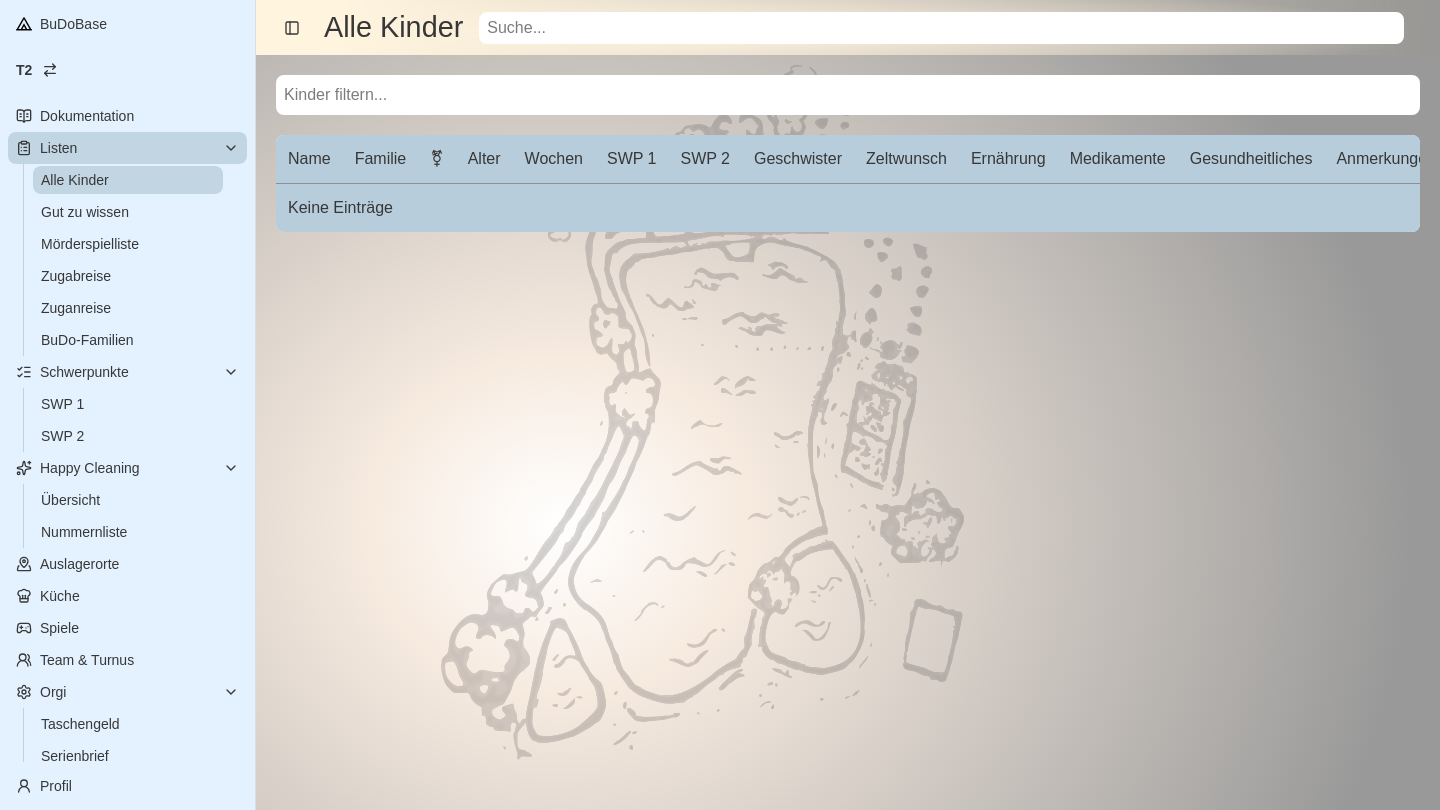
Test: application loading › keeps the current page and shows the shared error toast when a Turnus switch fails
This screenshot has width=1440, height=810.
Click the button named "Turnus wechseln".
click(50, 70)  # box [36,56,64,84]
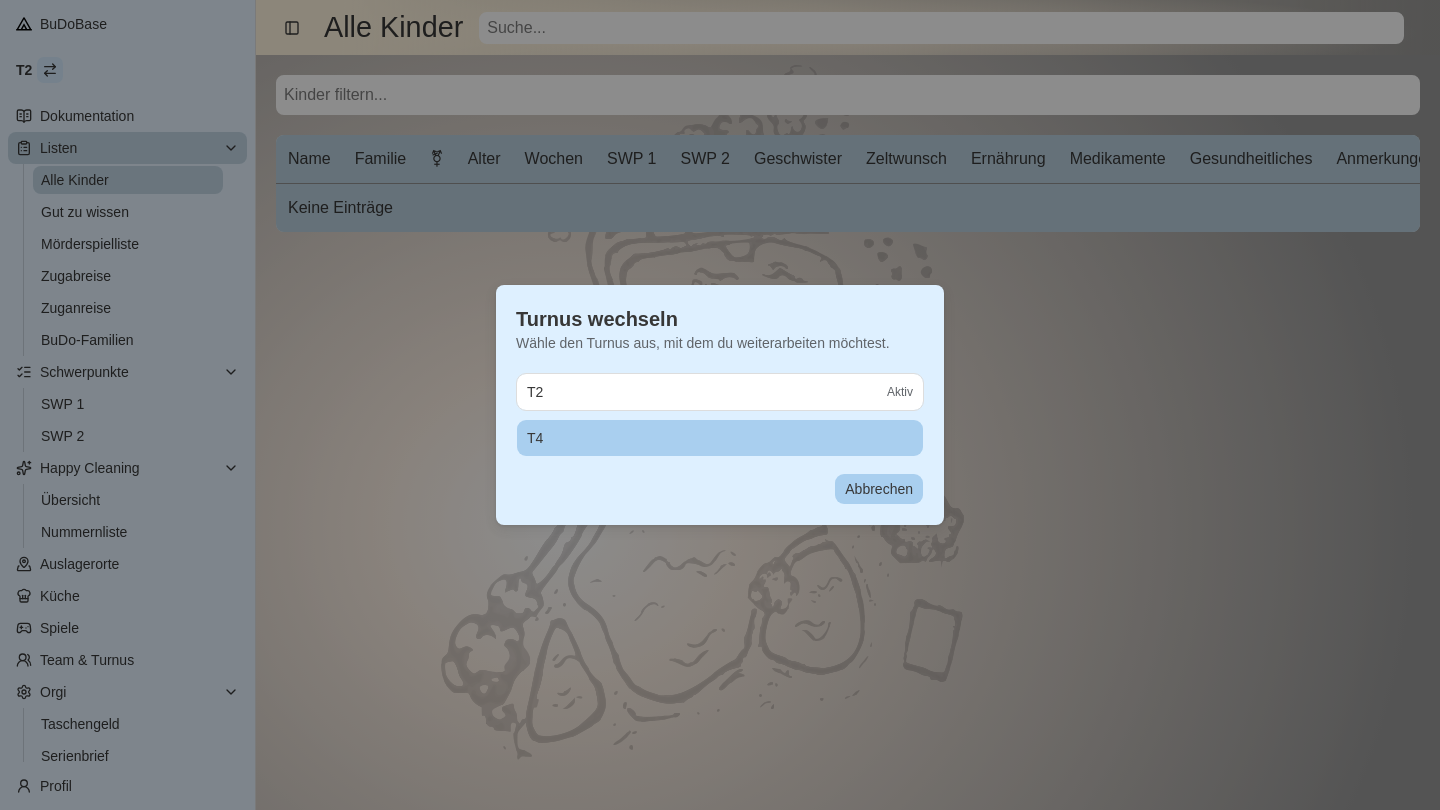
Click the button "T4".
click(535, 438)  # box [516,419,924,457]
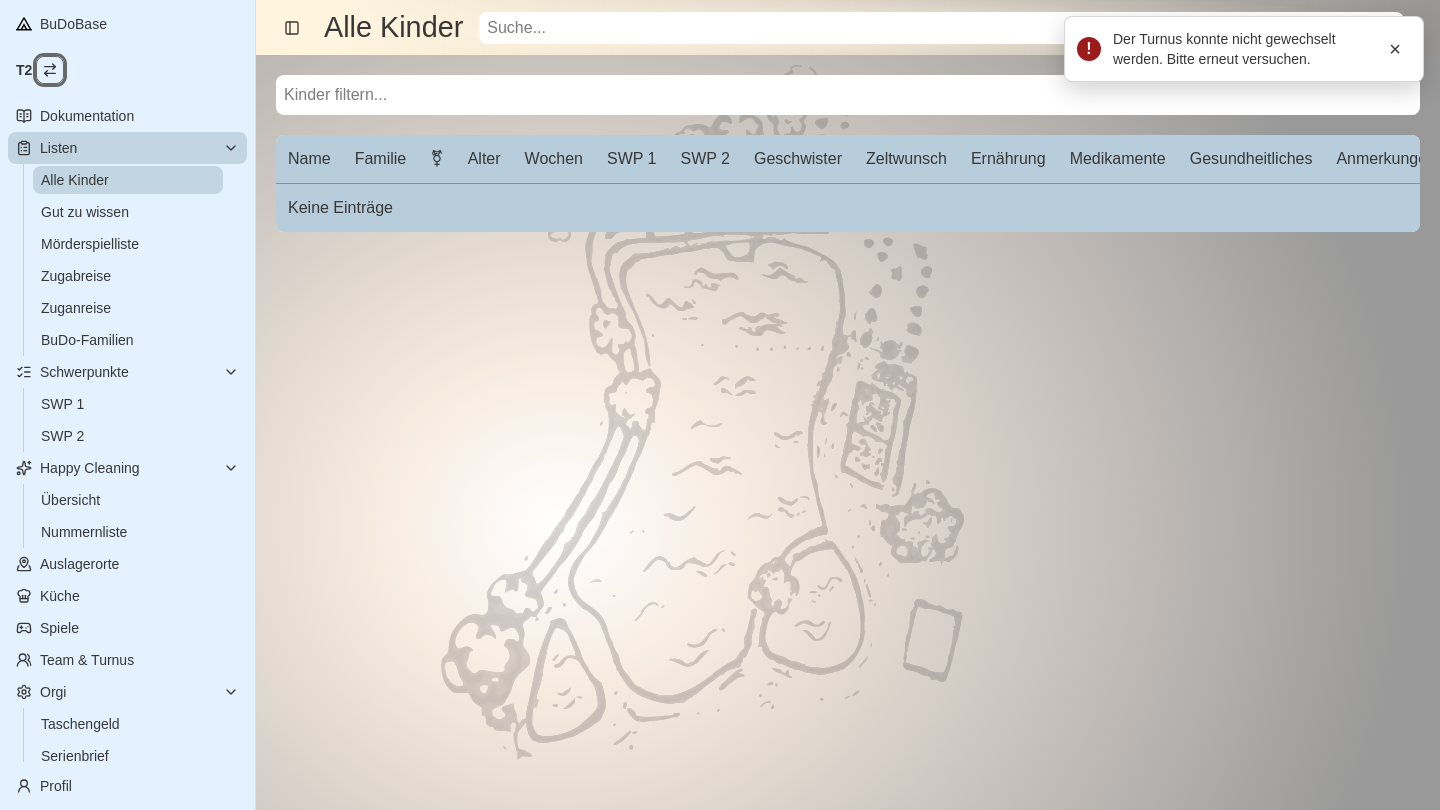
Expected: the text "T2" is shown, [16,60,32,80]
Now the text "Der Turnus konnte nicht gewechselt werden. Bitte erneut versuchen." is shown, box [1113,29,1367,69]
